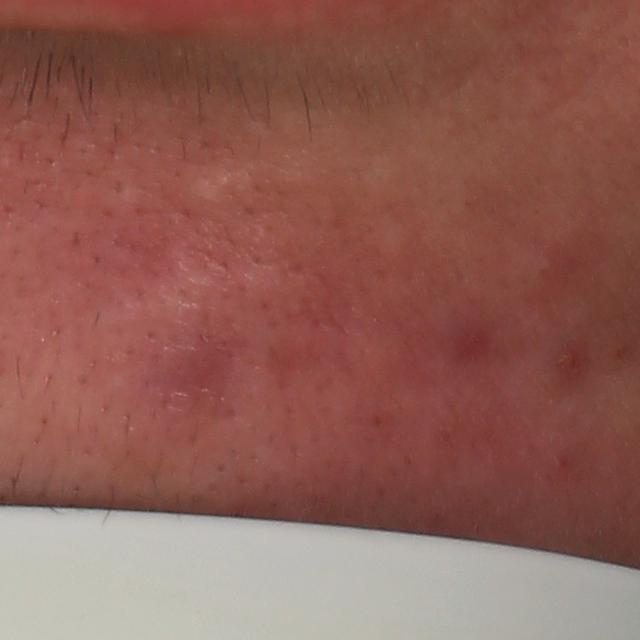hypertrophic_scar: (150, 153, 259, 213)
